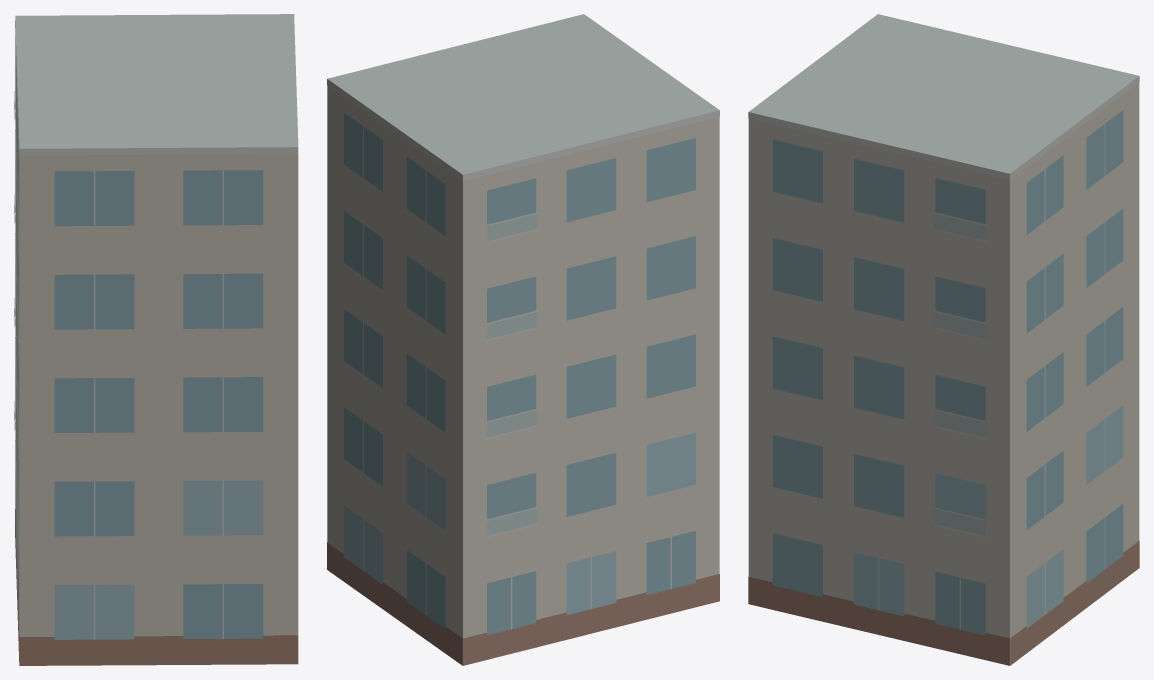
File: survey-upis-33038825.glb
3 views of the same model, side by side, from view 1: azimuth 30°, elevation 25°; view 2: azimuth 150°, elevation 25°; view 3: azimuth 270°, elevation 25° (orthographic). The views are drawn at different scales.
Visible parts, largest first — view 1: survey-upis-33038825.tmp; view 2: survey-upis-33038825.tmp; view 3: survey-upis-33038825.tmp.
Boxes of the visible parts, bbox=[...] form: survey-upis-33038825.tmp: bbox=[14, 14, 298, 665]; survey-upis-33038825.tmp: bbox=[327, 14, 719, 665]; survey-upis-33038825.tmp: bbox=[748, 14, 1139, 665].
Size of the model in its own units: 12.93 by 18.55 by 13.37.
